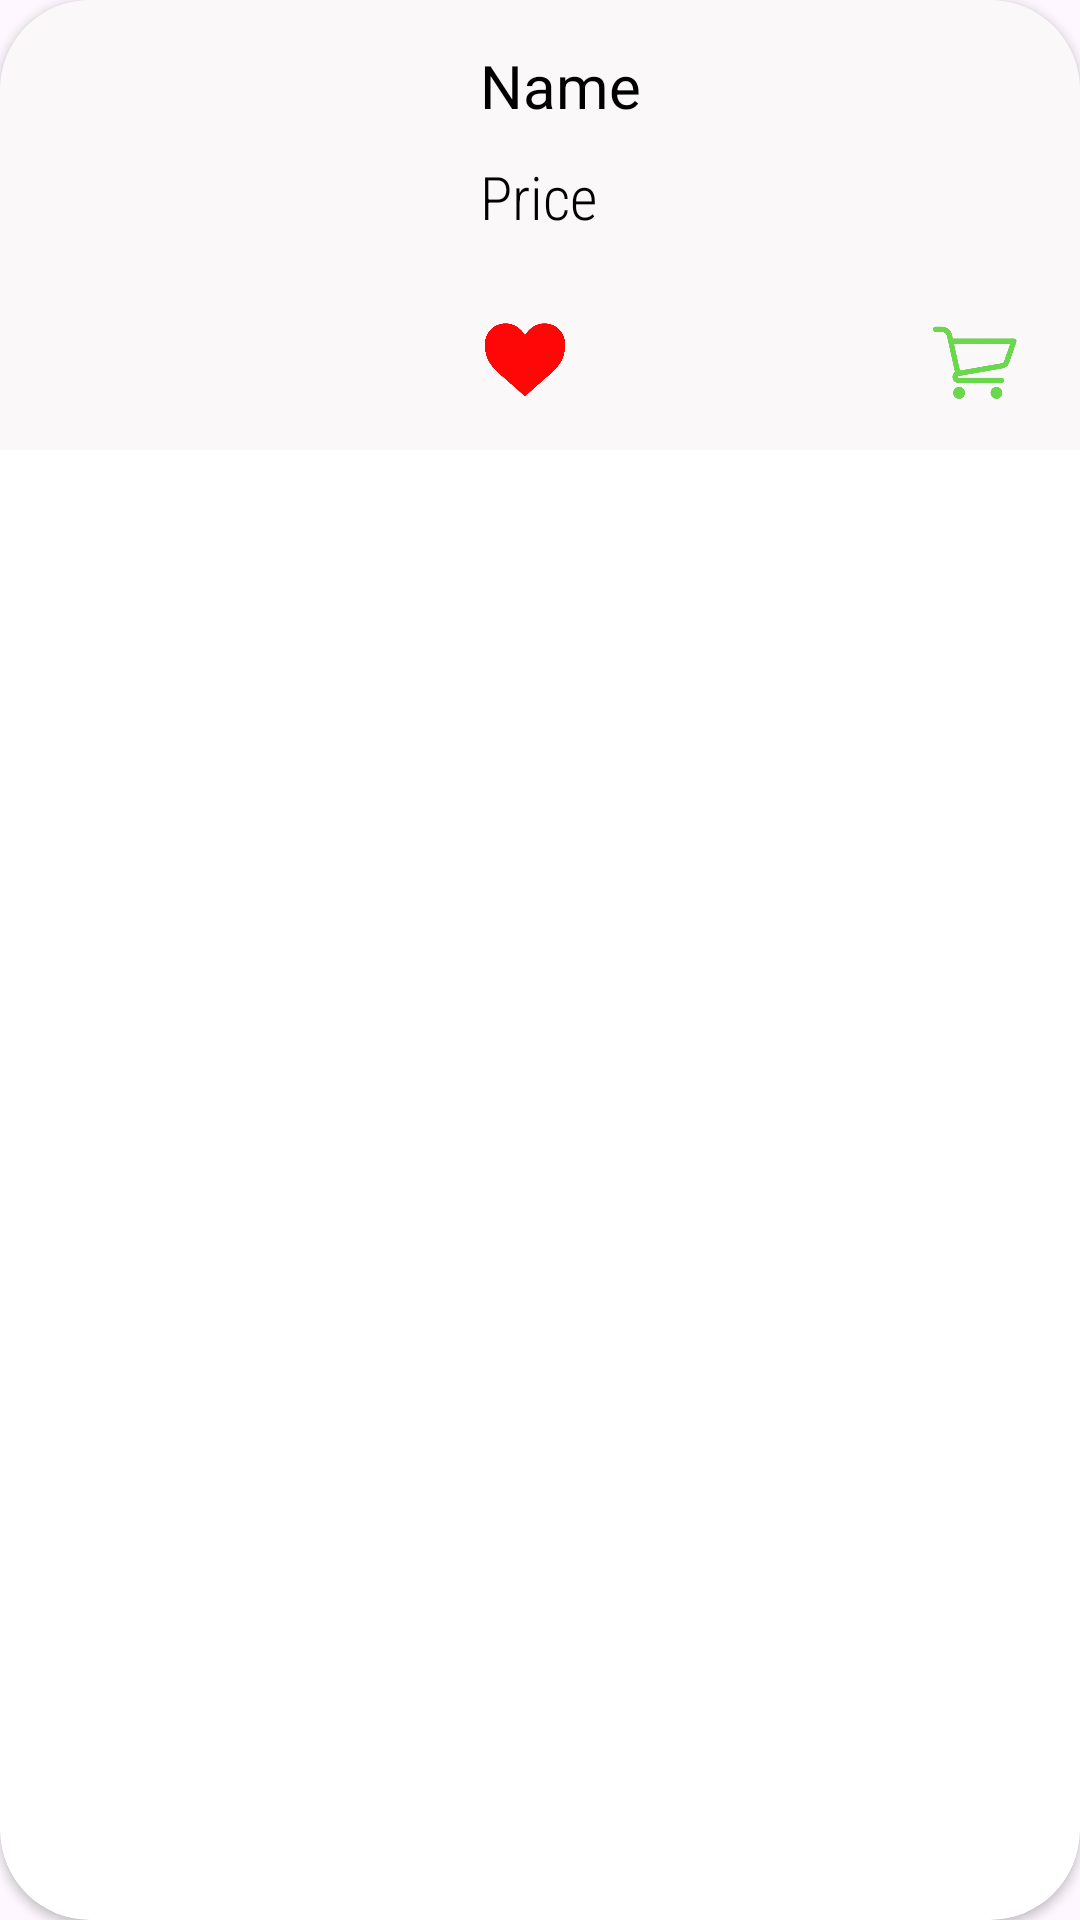

Named icons in this screenshot (1080 x 1920) and their centers, [x,y]:
cart: [975,362]
heart symbol: [525,359]
